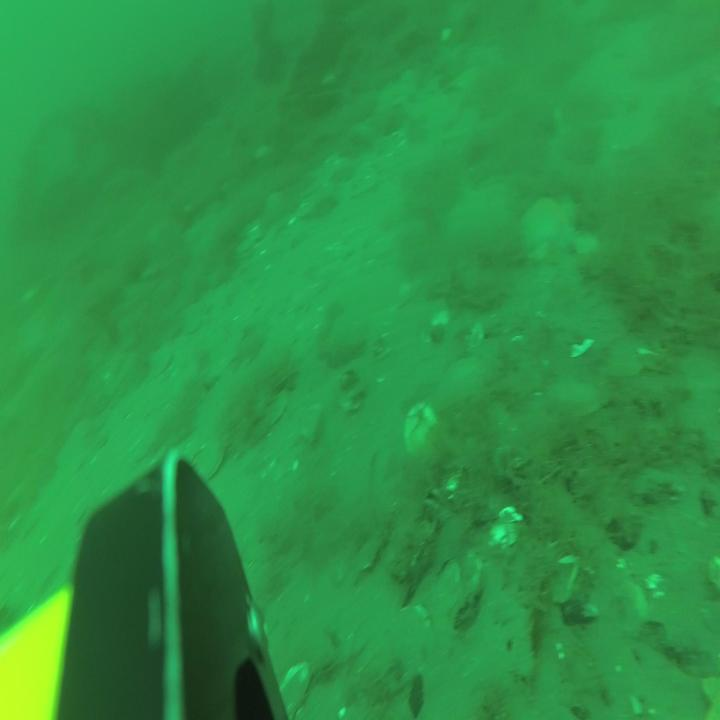scallop: (277, 657, 309, 716), (404, 403, 438, 457), (196, 436, 222, 479), (236, 239, 255, 261)
starfish: (516, 192, 578, 258)
